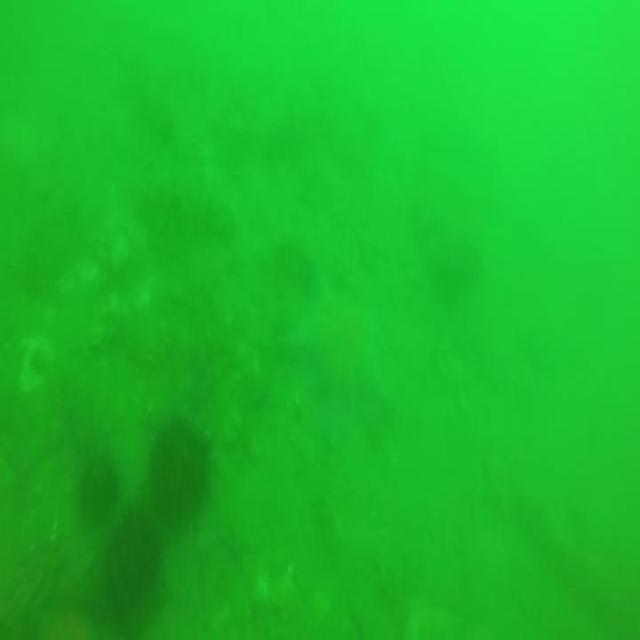echinus: (146, 418, 210, 532), (107, 511, 166, 612), (75, 460, 117, 520)
scallop: (16, 328, 60, 399)
starfish: (285, 289, 391, 443)
